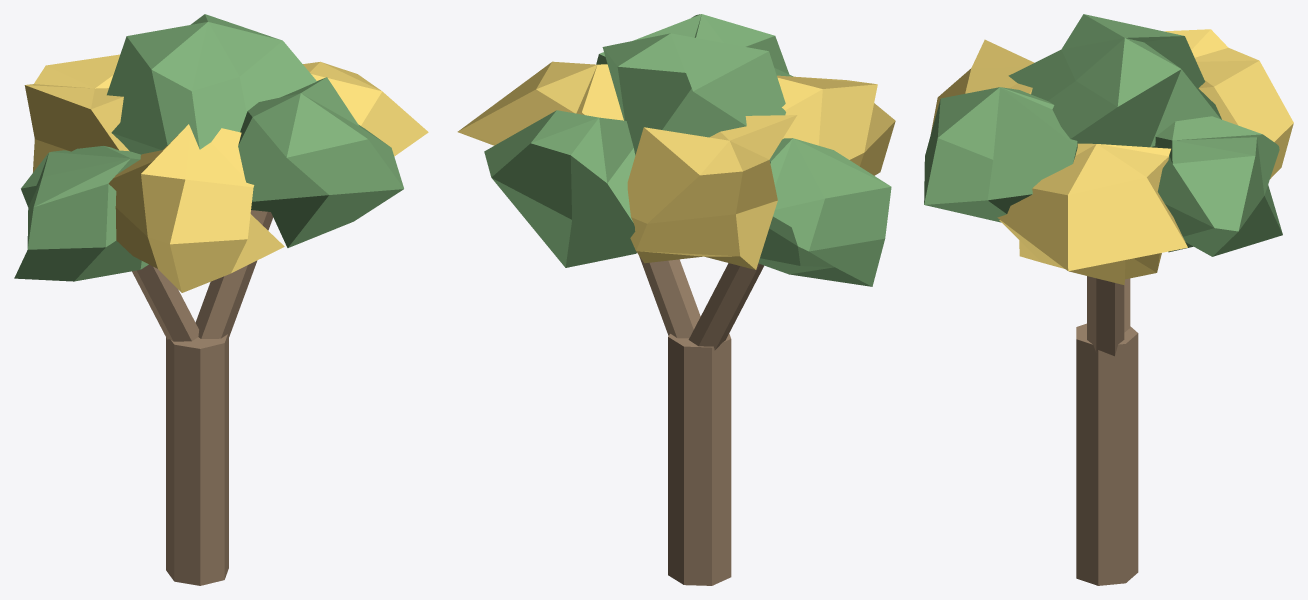
File: cottonwood.glb
3 renders of one model, left to right at view 1: azimuth 30°, elevation 25°; view 2: azimuth 150°, elevation 25°; view 3: azimuth 270°, elevation 25°, orthographic.
Parts seen in each view (by area): view 1: cottonwood; view 2: cottonwood; view 3: cottonwood.
Part boxes in pixels (x1,y1,x2,y2): cottonwood: [14, 14, 428, 585]; cottonwood: [457, 14, 895, 585]; cottonwood: [924, 14, 1293, 585].
Size of the model in its own units: 5.85 by 7.73 by 4.76.
